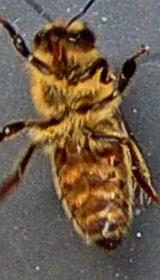varroa_mite: (100, 135, 132, 170)
